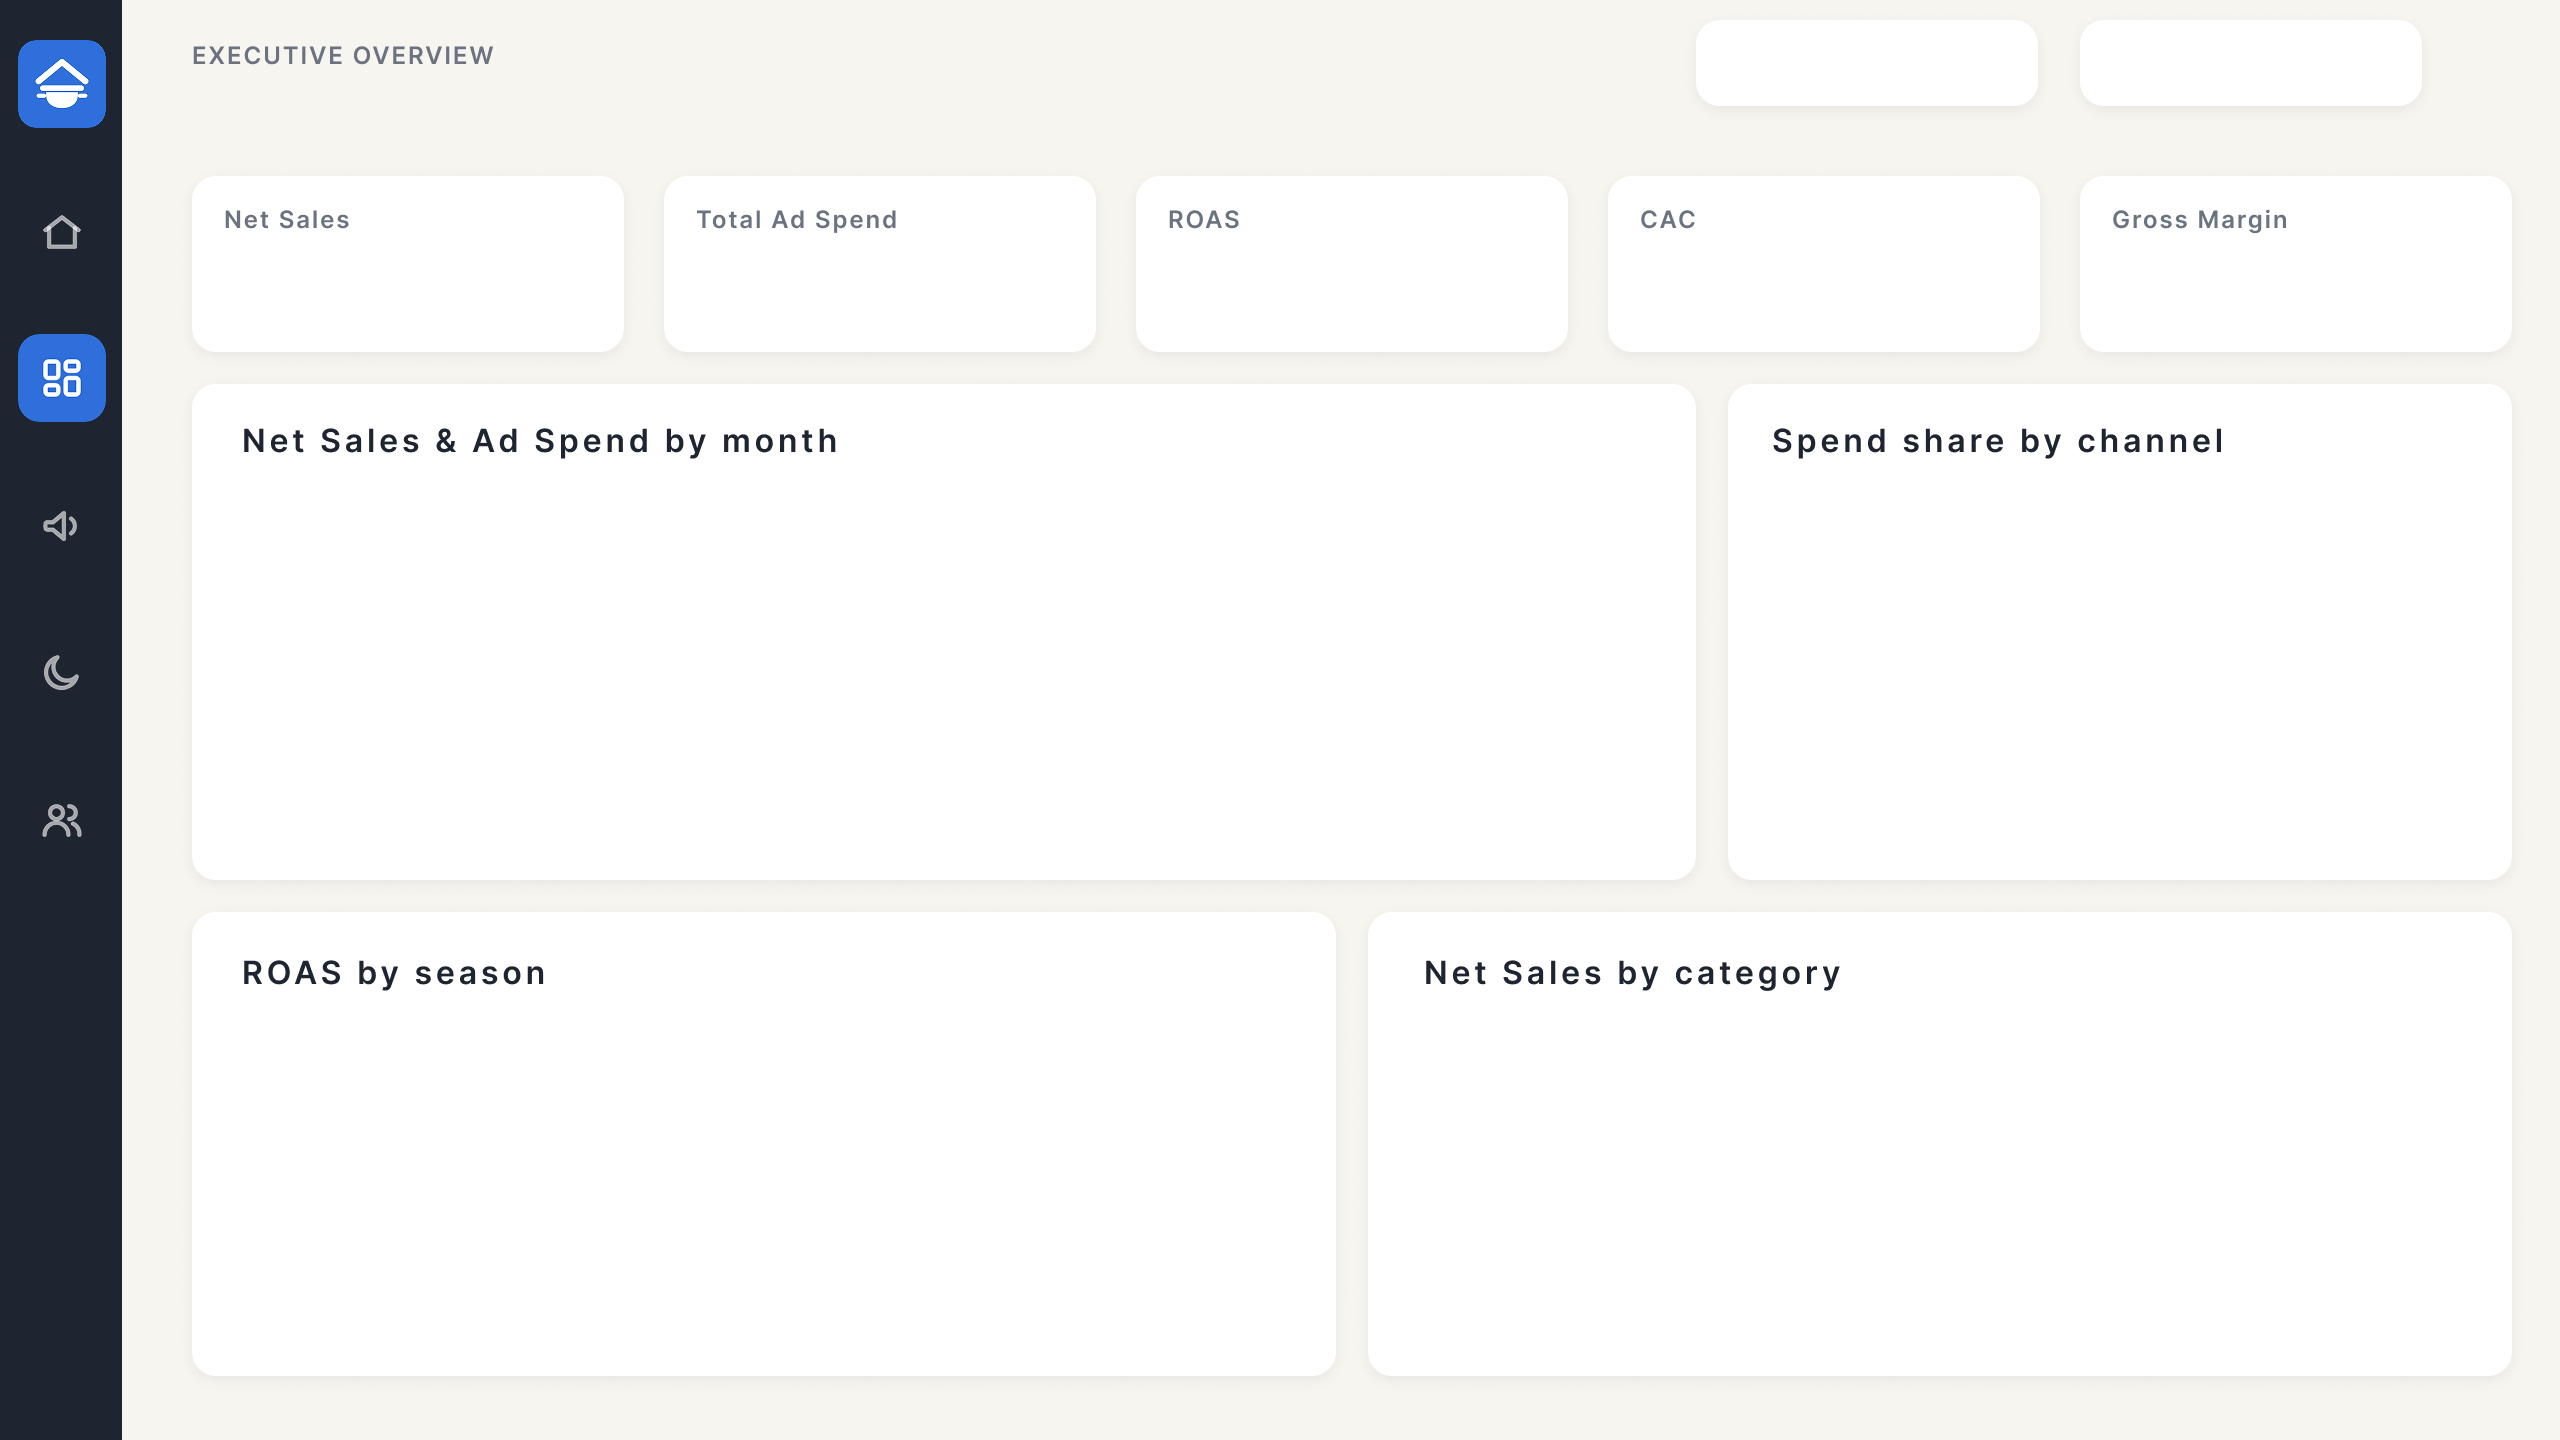

Layout of this report page (visuals, bound fields, positions):
{"tool":"powerbi","page":{"name":"Executive Overview","canvas":[1280,720],"ordinal":1},"visuals":[{"type":"card","fields":{"Values":["_Measures.Net Sales"]},"box":[75,90,170,105],"z":0},{"type":"card","fields":{"Values":["_Measures.Total Ad Spend"]},"box":[307,99,171,87],"z":1000},{"type":"card","fields":{"Values":["_Measures.ROAS"]},"box":[532,90,167,105],"z":2000},{"type":"card","fields":{"Values":["_Measures.CAC"]},"box":[779,94,173,98],"z":3000},{"type":"card","fields":{"Values":["_Measures.Gross Margin%"]},"box":[1020,100,154,86],"z":4000},{"type":"clusteredColumnChart","fields":{"Category":["DimDate.YearMonth.Variation.Date Hierarchy.Year","DimDate.YearMonth.Variation.Date Hierarchy.Month"],"Y":["_Measures.Net Sales","_Measures.Total Ad Spend"]},"box":[97,195,748,245],"z":5000},{"type":"clusteredBarChart","fields":{"Y":["_Measures.Total Ad Spend"],"Category":["DimChannel.ChannelName"]},"box":[866,213,388,227],"z":6000},{"type":"clusteredBarChart","fields":{"Category":["DimDate.Occasion"],"Y":["_Measures.ROAS"]},"box":[97,483,568,206],"z":7000},{"type":"clusteredBarChart","fields":{"Category":["DimProduct.Category"],"Y":["_Measures.Net Sales"]},"box":[685,483,569,206],"z":8000},{"type":"slicer","fields":{"Values":["DimDate.Year"]},"box":[877,3,186,56],"z":9000},{"type":"slicer","fields":{"Values":["DimDate.Occasion"]},"box":[1067,3,187,58],"z":10000},{"type":"actionButton","box":[8.7,95.4,49.9,47.7],"z":10001},{"type":"actionButton","box":[8.7,174.5,49.9,47.7],"z":10002},{"type":"actionButton","box":[8.7,253.6,49.9,47.7],"z":10003},{"type":"actionButton","box":[8.7,336,49.9,47.7],"z":10004},{"type":"actionButton","box":[8.7,416.2,49.9,47.7],"z":10005}]}

Visuals, with their boxes on the page's 1280x720 design canvas (x1, y1, x2, y2). These are canvas units, not pixel positions in the 2560x1440 screenshot, which may show the page scaled, cropped or inside an application window:
card - _Measures.Net Sales: [left=75, top=90, right=245, bottom=195]
card - _Measures.Total Ad Spend: [left=307, top=99, right=478, bottom=186]
card - _Measures.ROAS: [left=532, top=90, right=699, bottom=195]
card - _Measures.CAC: [left=779, top=94, right=952, bottom=192]
card - _Measures.Gross Margin%: [left=1020, top=100, right=1174, bottom=186]
clusteredColumnChart - DimDate.YearMonth.Variation.Date Hierarchy.Year x DimDate.YearMonth.Variation.Date Hierarchy.Month: [left=97, top=195, right=845, bottom=440]
clusteredBarChart - _Measures.Total Ad Spend x DimChannel.ChannelName: [left=866, top=213, right=1254, bottom=440]
clusteredBarChart - DimDate.Occasion x _Measures.ROAS: [left=97, top=483, right=665, bottom=689]
clusteredBarChart - DimProduct.Category x _Measures.Net Sales: [left=685, top=483, right=1254, bottom=689]
slicer - DimDate.Year: [left=877, top=3, right=1063, bottom=59]
slicer - DimDate.Occasion: [left=1067, top=3, right=1254, bottom=61]
actionButton: [left=9, top=95, right=59, bottom=143]
actionButton: [left=9, top=174, right=59, bottom=222]
actionButton: [left=9, top=254, right=59, bottom=301]
actionButton: [left=9, top=336, right=59, bottom=384]
actionButton: [left=9, top=416, right=59, bottom=464]
